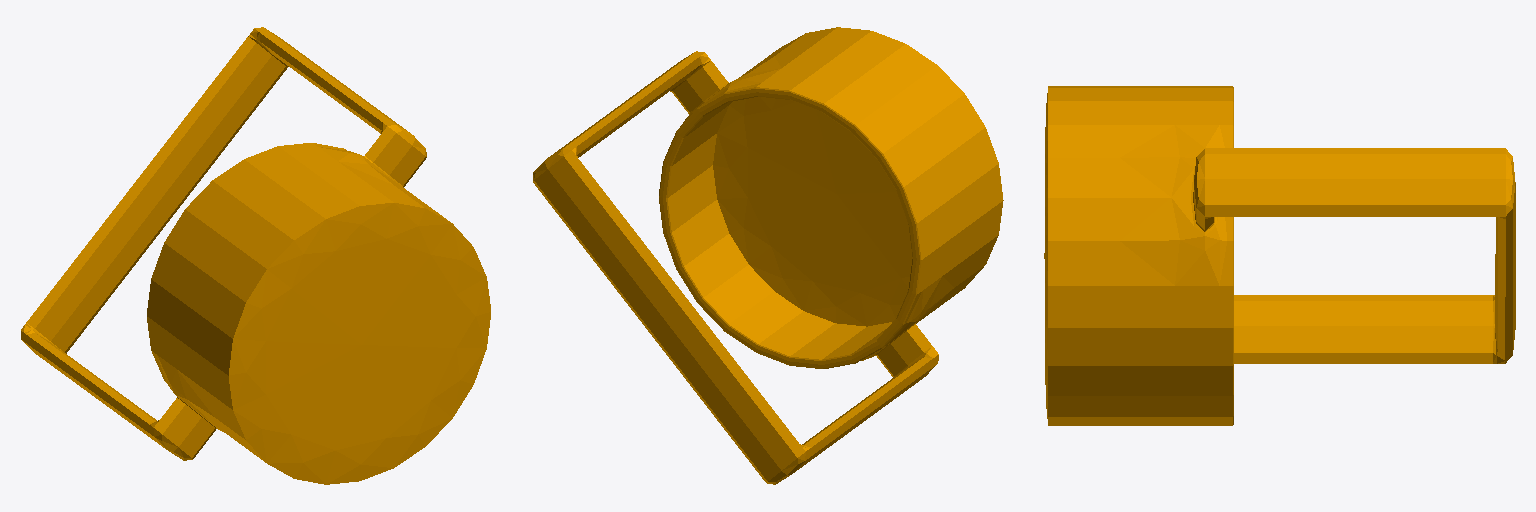
robot.urdf — 149:
<?xml version="1.0" ?>
<robot name="149">
  <link name="body">
    <visual>
      <geometry>
        <mesh filename="../shapes/149.obj"/>
      </geometry>
    </visual>
    <collision>
      <geometry>
        <mesh filename="../shapes/149.obj"/>
      </geometry>
    </collision>
  </link>
</robot>

--- Facts derived from the render (not from the file) ---
Views: 3 orthographic renders of the robot side by side, from view 1: azimuth 30°, elevation 25°; view 2: azimuth 150°, elevation 25°; view 3: azimuth 270°, elevation 25°.
Robot: 149 — 1 links, 0 joints (none); root link body; default pose: all joints at 0.
Visible links, largest first — view 1: body; view 2: body; view 3: body.
Boxes of the visible links, x1,y1,x2,y2 form: body: (21, 27, 490, 484); body: (533, 27, 1003, 484); body: (1044, 86, 1515, 425).
Bounding box of the posed robot: 1.88 × 2.49 × 1.88 m (x, y, z).
1 mesh visuals loaded from 1 distinct referenced files (1 OBJ).